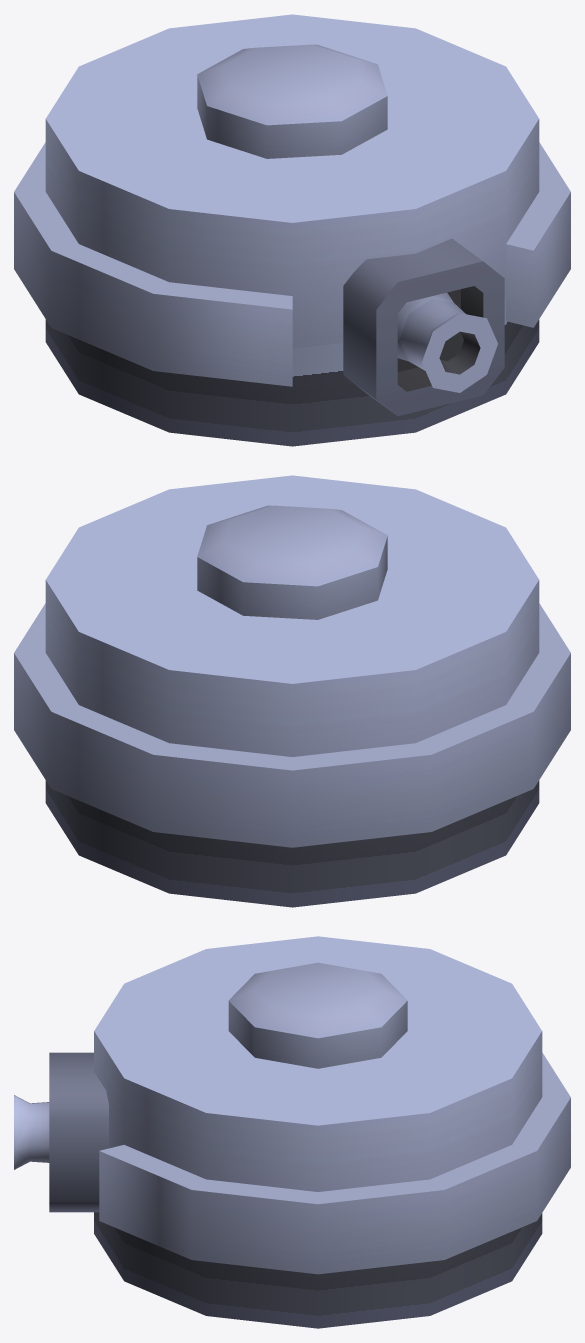
File: tower-round-middle-b.glb
3 renders of one model, top to bottom at view 1: azimuth 30°, elevation 25°; view 2: azimuth 150°, elevation 25°; view 3: azimuth 270°, elevation 25°, orthographic. The views are drawn at different scales.
Visible parts, largest first — view 1: tower-round-middle-b; view 2: tower-round-middle-b; view 3: tower-round-middle-b.
Boxes of the visible parts, bbox=[...] form: tower-round-middle-b: bbox=[14, 14, 570, 446]; tower-round-middle-b: bbox=[14, 475, 570, 907]; tower-round-middle-b: bbox=[14, 936, 570, 1328].
Size of the model in its own units: 1.13 by 0.6 by 1.24.
Materials: 1 (1 with a texture image).
